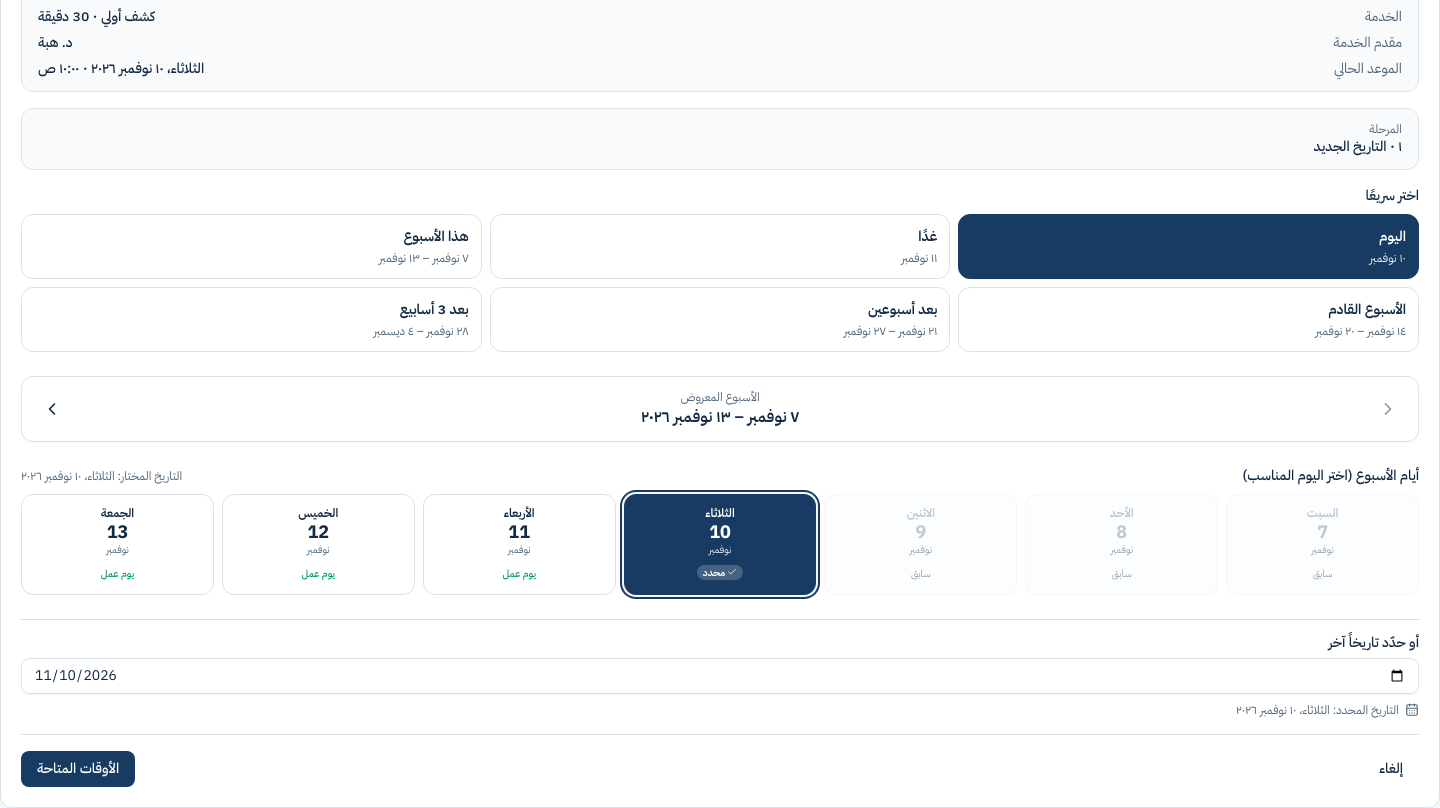
Test: ReschedulePanel mounted integration tests (ISS-005) › 5. renders clear ineligibility notice when preserved provider is no longer in eligible providers
(page scrolled)
Click the button "الأوقات المتاحة": [78, 769] box left=21, top=751, right=135, bottom=787
(page scrolled)
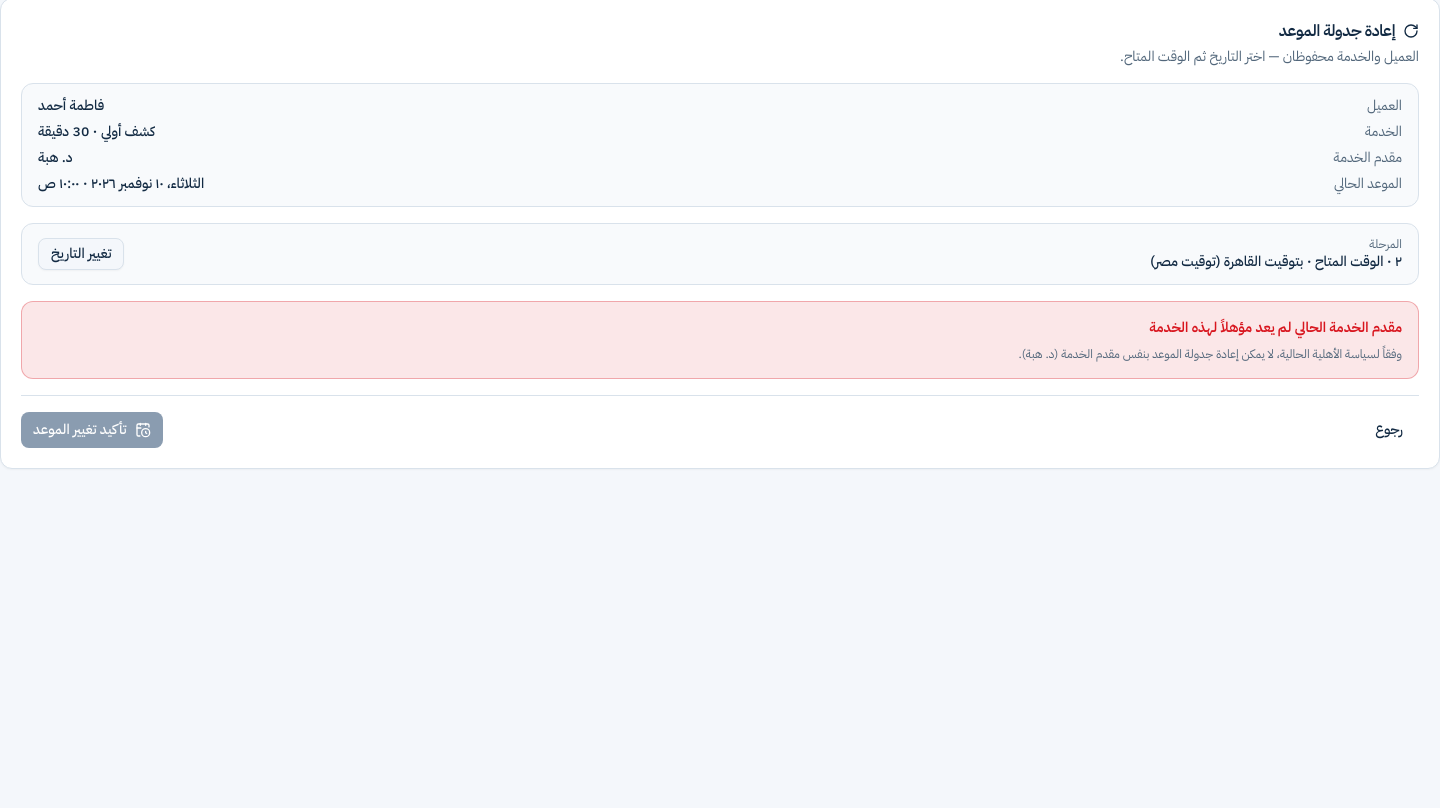
Result: the text "مقدم الخدمة الحالي لم يعد مؤهلاً لهذه الخدمة" is shown at left=1149, top=317, right=1402, bottom=338
